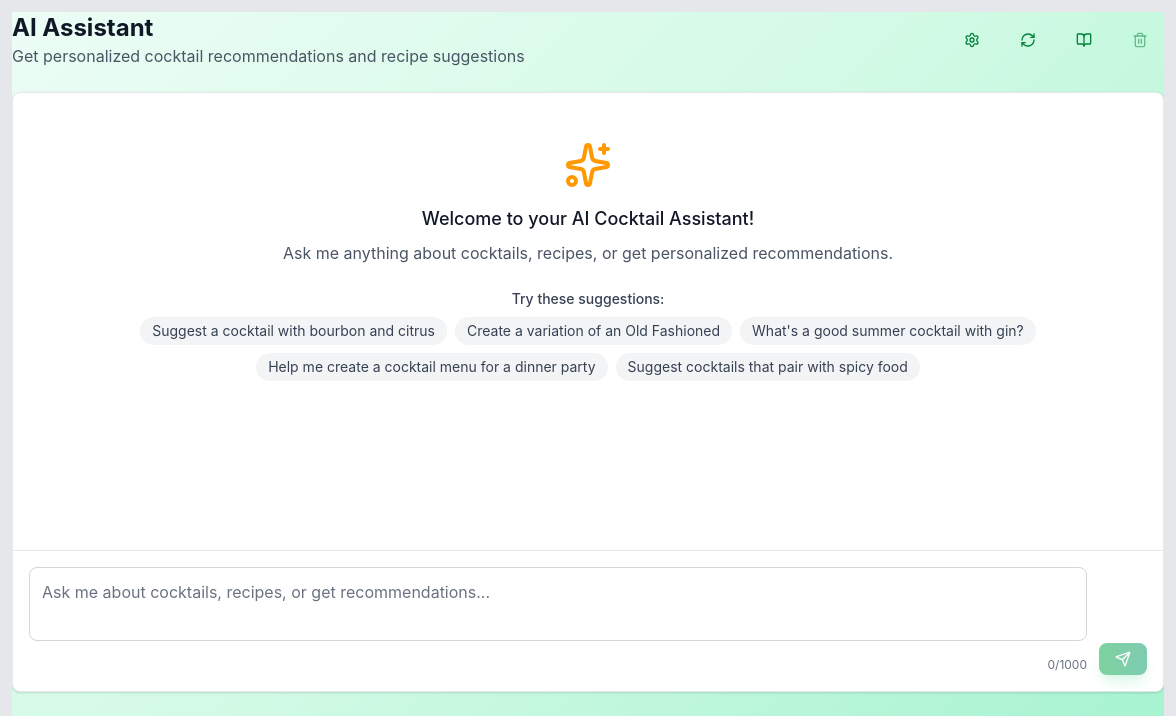
AIAssistant PDF Upload Functionality › hides PDF upload section when upload button is clicked again
# Show upload section
Click the button named "upload pdf recipe book". click: (1084, 40)
box: [1060,24,1108,56]
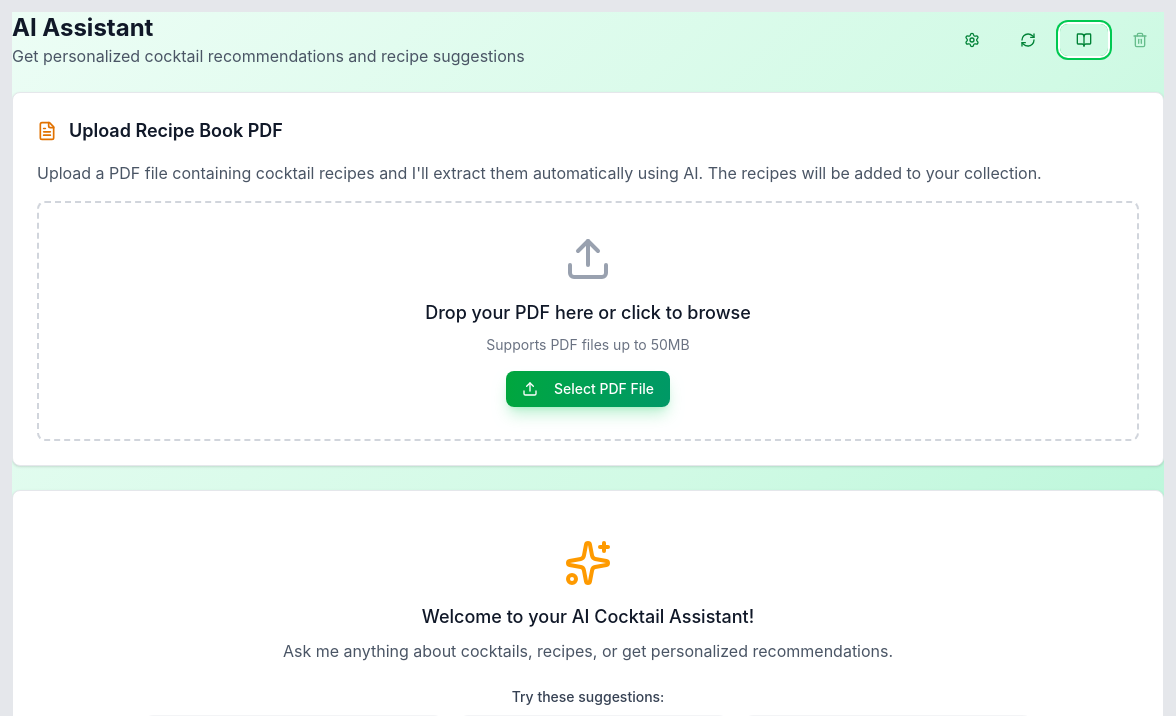
Check: the heading "Upload Recipe Book PDF" is shown, box [69,117,283,145]
# Hide upload section
Click the button named "upload pdf recipe book". click: (1084, 40)
box: [1060,24,1108,56]
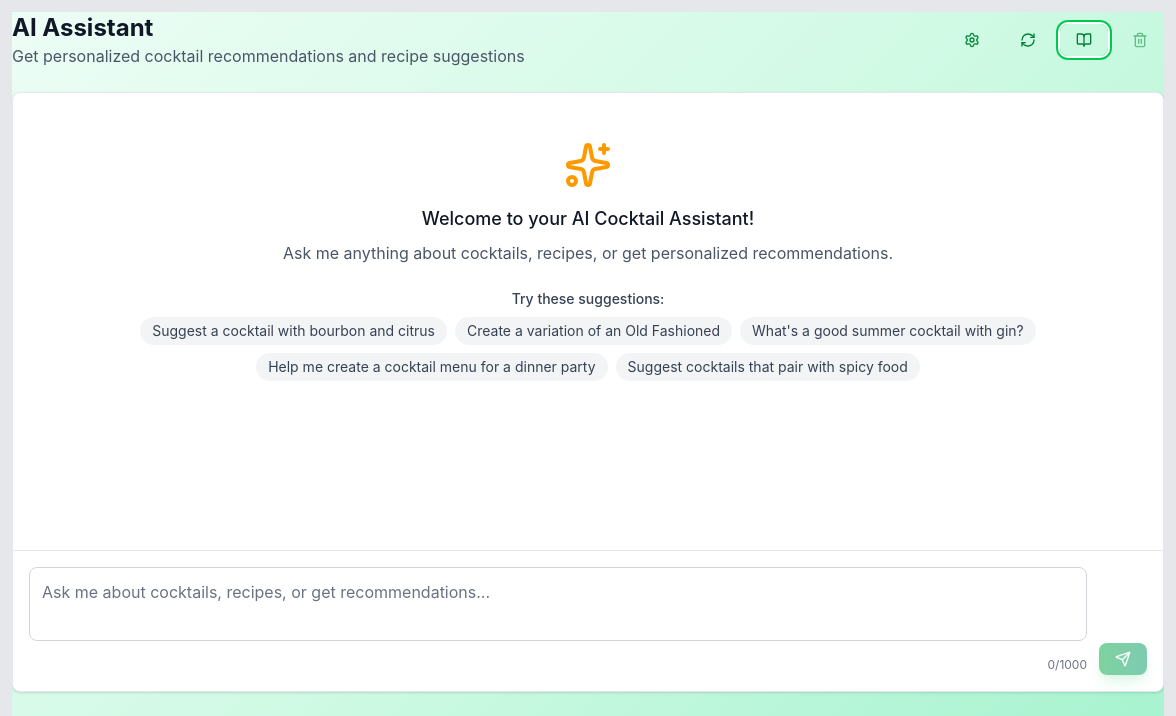
Check: the heading "Upload Recipe Book PDF" is gone
